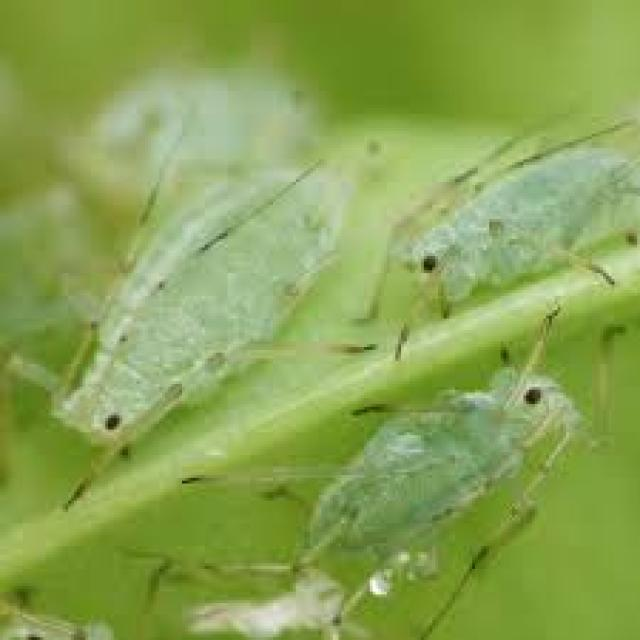Aphid: (39, 54, 333, 525), (268, 362, 604, 626), (339, 116, 629, 346)
